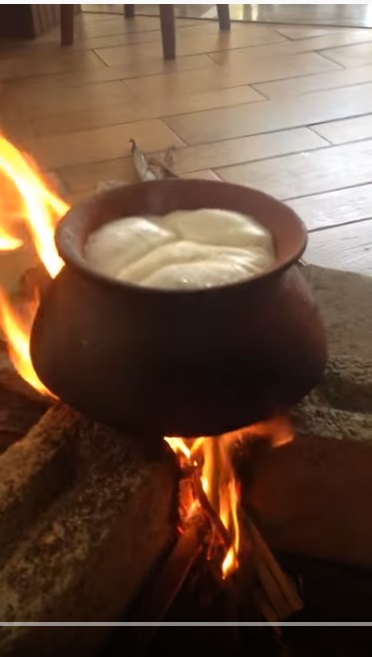Steaming: (33, 172, 340, 434)
